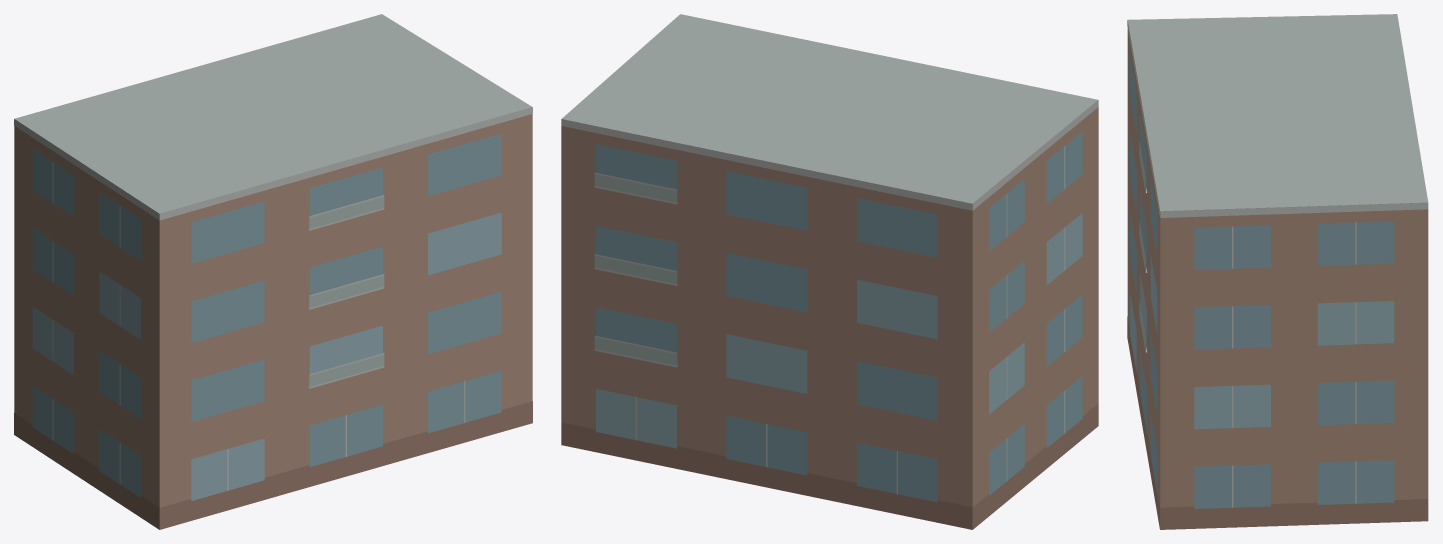
The model's file is survey-upis-32495275.glb.
3 views of the same model, side by side, from view 1: azimuth 30°, elevation 25°; view 2: azimuth 150°, elevation 25°; view 3: azimuth 270°, elevation 25° (orthographic). The views are drawn at different scales.
Visible parts, largest first — view 1: survey-upis-32495275.tmp; view 2: survey-upis-32495275.tmp; view 3: survey-upis-32495275.tmp.
Boxes of the visible parts, left/top/right/bottom form: survey-upis-32495275.tmp: left=14, top=14, right=532, bottom=529; survey-upis-32495275.tmp: left=561, top=14, right=1098, bottom=529; survey-upis-32495275.tmp: left=1127, top=14, right=1428, bottom=529.
Size of the model in its own units: 15.14 by 11.4 by 9.76.
